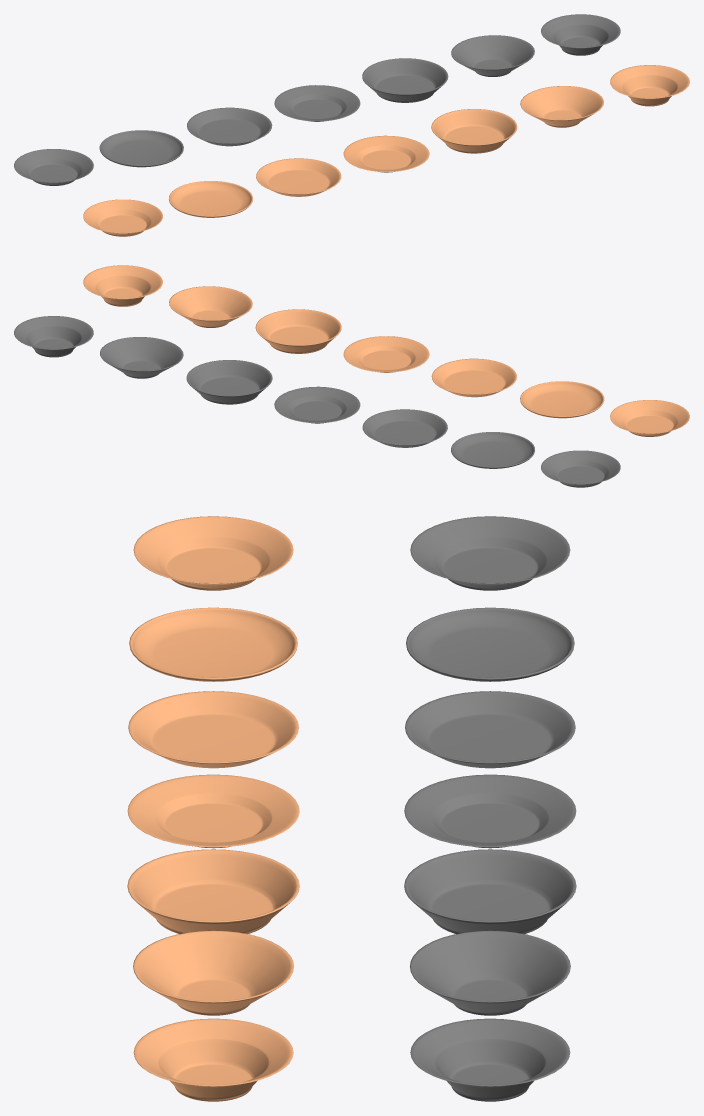
The model's file is platespack.fbx.
The picture shows the model from 3 angles, top to bottom: view 1: azimuth 30°, elevation 25°; view 2: azimuth 150°, elevation 25°; view 3: azimuth 270°, elevation 25°; orthographic projection. The views are drawn at different scales.
Parts seen in each view (by area): view 1: plate5, plate005, plate6, plate006, plate003, plate3, plate004, plate4, plate2, plate002, plate7, plate007 (+2 smaller); view 2: plate005, plate5, plate6, plate006, plate3, plate003, plate4, plate004, plate002, plate2, plate007, plate7 (+2 smaller); view 3: plate5, plate005, plate3, plate003, plate6, plate006, plate4, plate004, plate2, plate002, plate7, plate007 (+2 smaller).
Part boxes in pixels (x1,y1,x2,y2): plate5: (362, 58, 448, 102); plate005: (431, 109, 517, 153); plate6: (451, 35, 534, 76); plate006: (520, 86, 603, 127); plate003: (256, 158, 341, 196); plate3: (187, 107, 272, 146); plate004: (343, 135, 429, 172); plate4: (274, 85, 360, 121); plate2: (99, 130, 183, 167); plate002: (169, 181, 252, 217); plate7: (541, 14, 620, 55); plate007: (610, 65, 689, 106); plate005: (255, 309, 341, 353); plate5: (186, 360, 272, 404); plate6: (100, 337, 183, 378); plate006: (169, 286, 252, 327); plate3: (362, 409, 447, 447); plate003: (431, 358, 516, 397); plate4: (274, 386, 360, 423); plate004: (343, 336, 429, 372); plate002: (520, 381, 604, 418); plate2: (451, 432, 534, 468); plate007: (83, 265, 162, 306); plate7: (14, 316, 93, 357); plate5: (404, 849, 576, 933); plate005: (127, 849, 299, 933); plate3: (405, 691, 575, 768); plate003: (128, 691, 298, 768); plate6: (410, 930, 570, 1015); plate006: (133, 930, 293, 1015); plate4: (404, 774, 576, 848); plate004: (127, 774, 299, 848); plate2: (406, 607, 574, 681); plate002: (129, 607, 297, 681); plate7: (410, 1018, 570, 1101); plate007: (133, 1018, 293, 1101).
Bounding box in the file's own units: 148 × 3.98 × 48.23.
